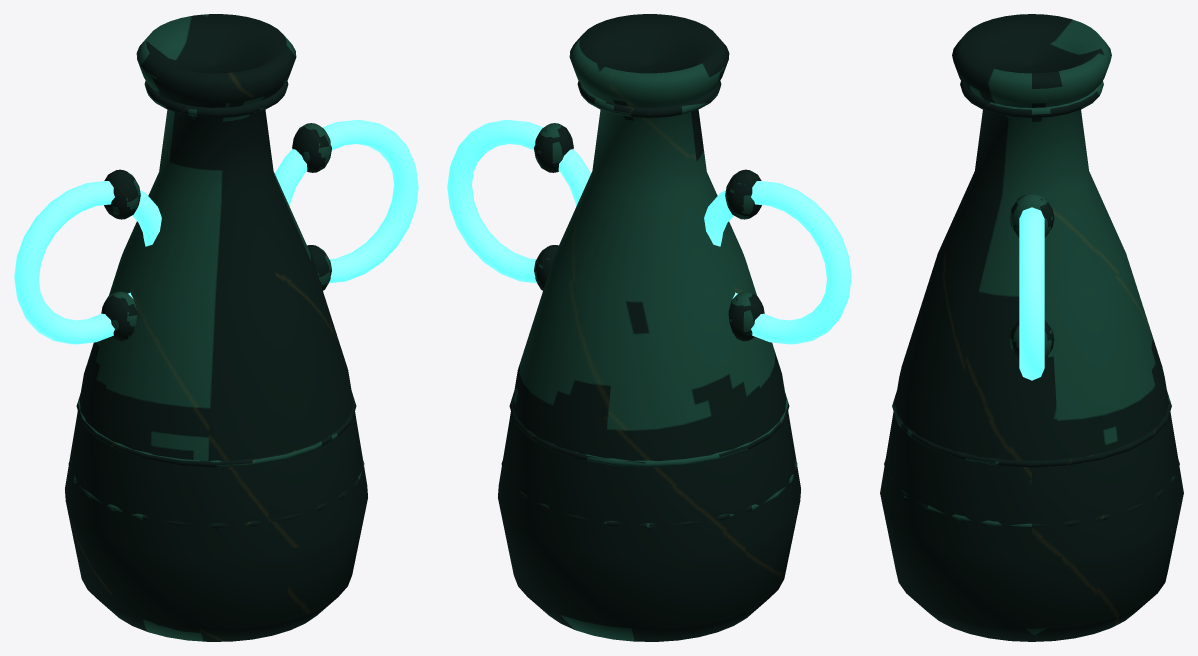
The model's file is amphora_pattern_jade.fbx.
3 renders of one model, left to right at view 1: azimuth 30°, elevation 25°; view 2: azimuth 150°, elevation 25°; view 3: azimuth 270°, elevation 25°, orthographic.
Parts seen in each view (by area): view 1: TH10_Amphora_Body, TH10_Amphora_Handle, TH10_Amphora_Handle.001, TH10_Amphora_Band.001, TH10_Amphora_Neck, TH10_Amphora_HandleMount.002, TH10_Amphora_HandleMount, TH10_Amphora_HandleMount.001, TH10_Amphora_Band, TH10_Amphora_HandleMount.003; view 2: TH10_Amphora_Body, TH10_Amphora_Handle, TH10_Amphora_Handle.001, TH10_Amphora_Band.001, TH10_Amphora_Neck, TH10_Amphora_HandleMount.002, TH10_Amphora_HandleMount, TH10_Amphora_HandleMount.001, TH10_Amphora_Band, TH10_Amphora_HandleMount.003; view 3: TH10_Amphora_Body, TH10_Amphora_Handle.001, TH10_Amphora_Band.001, TH10_Amphora_Neck, TH10_Amphora_HandleMount.002, TH10_Amphora_Band, TH10_Amphora_HandleMount.003.
Boxes of the visible parts, x1,y1,x2,y2 form: TH10_Amphora_Body: [65, 14, 367, 641]; TH10_Amphora_Handle: [14, 181, 161, 344]; TH10_Amphora_Handle.001: [275, 120, 418, 283]; TH10_Amphora_Band.001: [76, 391, 356, 467]; TH10_Amphora_Neck: [144, 81, 288, 117]; TH10_Amphora_HandleMount.002: [292, 123, 331, 172]; TH10_Amphora_HandleMount: [104, 169, 140, 219]; TH10_Amphora_HandleMount.001: [101, 291, 137, 341]; TH10_Amphora_Band: [68, 459, 364, 528]; TH10_Amphora_HandleMount.003: [307, 245, 331, 290]; TH10_Amphora_Body: [498, 14, 800, 641]; TH10_Amphora_Handle: [704, 181, 851, 344]; TH10_Amphora_Handle.001: [447, 120, 590, 283]; TH10_Amphora_Band.001: [509, 391, 789, 467]; TH10_Amphora_Neck: [577, 81, 721, 117]; TH10_Amphora_HandleMount.002: [534, 123, 573, 172]; TH10_Amphora_HandleMount: [725, 169, 761, 219]; TH10_Amphora_HandleMount.001: [728, 291, 764, 341]; TH10_Amphora_Band: [501, 459, 797, 528]; TH10_Amphora_HandleMount.003: [534, 245, 558, 290]; TH10_Amphora_Body: [880, 14, 1183, 641]; TH10_Amphora_Handle.001: [1019, 207, 1044, 380]; TH10_Amphora_Band.001: [892, 391, 1171, 467]; TH10_Amphora_Neck: [960, 81, 1103, 117]; TH10_Amphora_HandleMount.002: [1009, 193, 1054, 237]; TH10_Amphora_Band: [884, 459, 1179, 527]; TH10_Amphora_HandleMount.003: [1009, 320, 1054, 359].
Size of the model in its own units: 0.29 by 0.38 by 0.19.
Materials: 2 (1 with a texture image).
